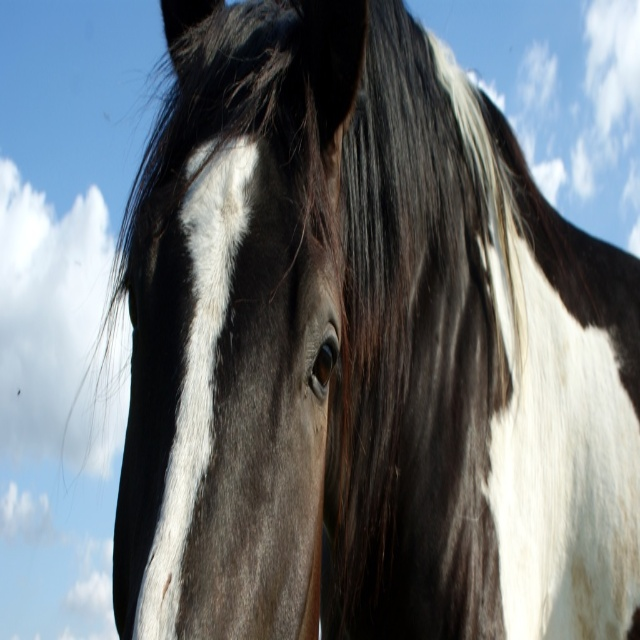Horse: (62, 1, 640, 639)
